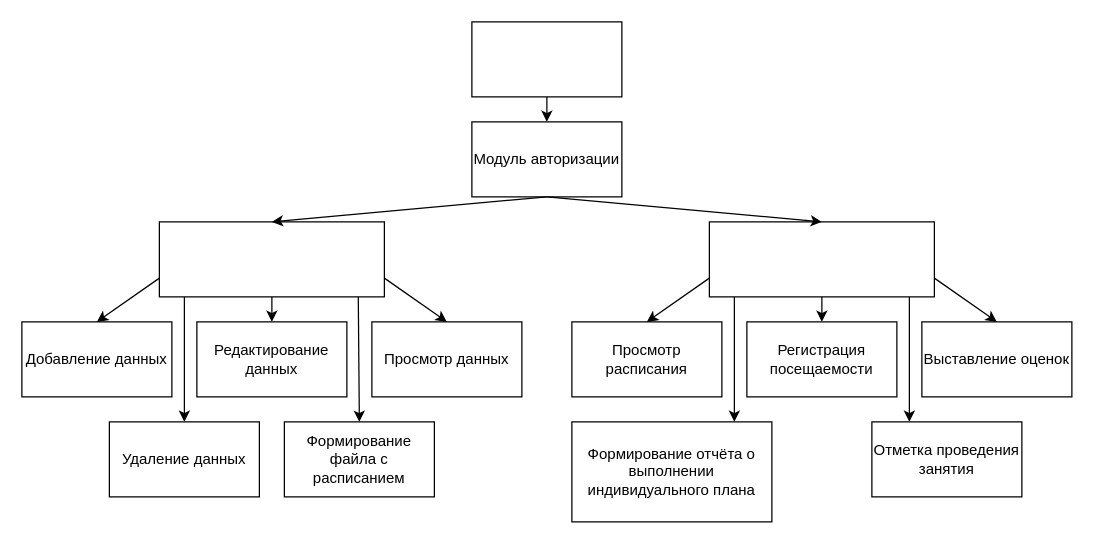
Some shapes in this 1094 by 544 pixel diagram are drawn without their labels. Here are the shapes that lost their labels. From the top down, the box of each, then its label:
(471, 21, 622, 97): Информационная система
(158, 221, 384, 297): Модуль администратора
(708, 221, 934, 297): Модуль пользователя
